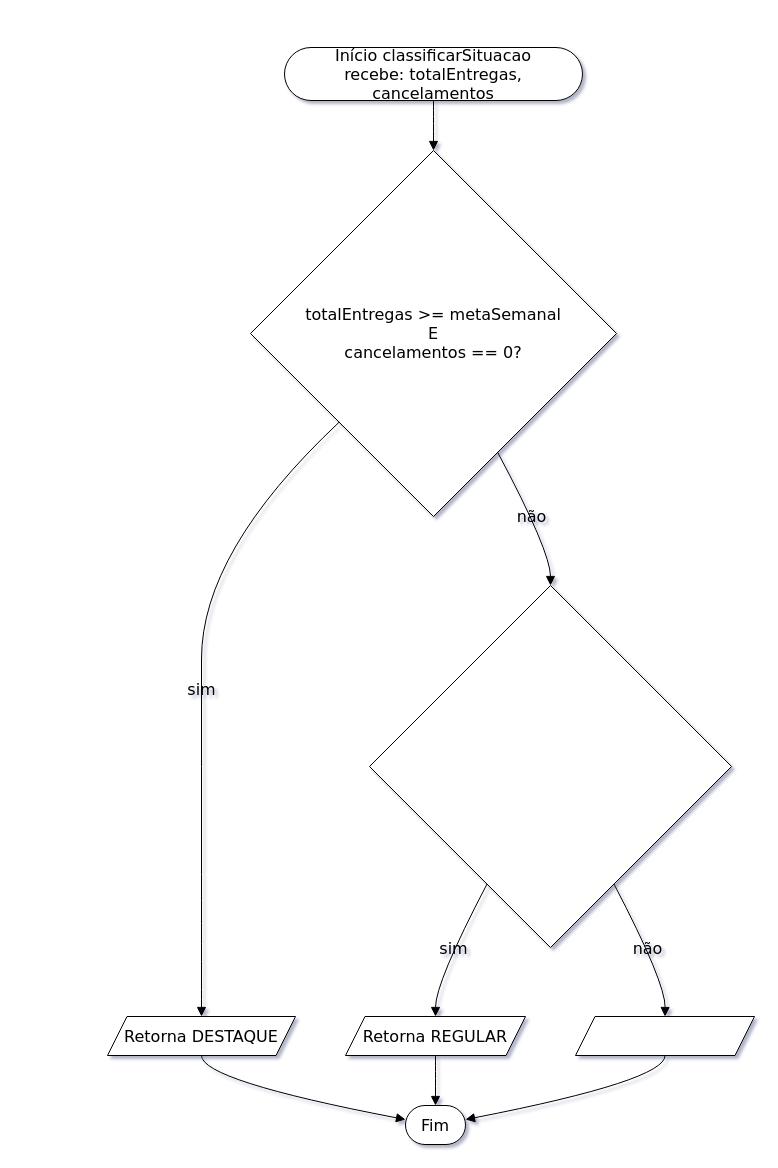
Image size: 778x1168. Some labels were removed from this diagram. Each missing label, with the centre of its shape:
"Retorna ATENCAO" belongs at [664,1036].
"totalEntregas >= metaMinima?" belongs at [550,766].
